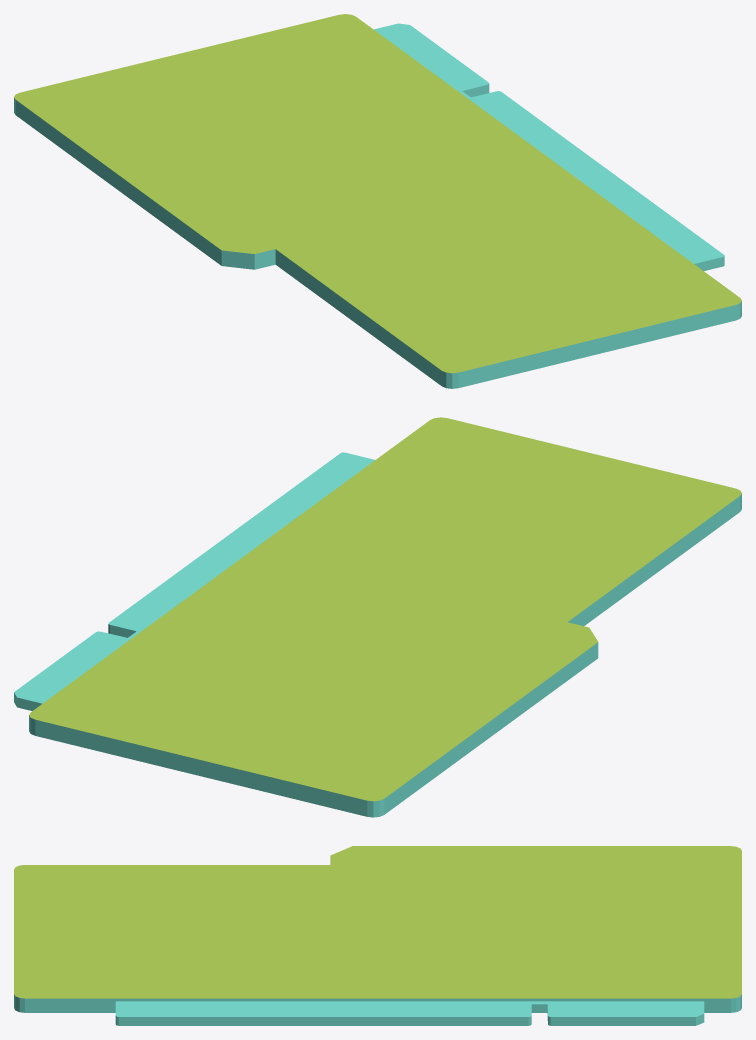
Rendered from PCI_Board_E.fbx.
The picture shows the model from 3 angles, top to bottom: view 1: azimuth 30°, elevation 25°; view 2: azimuth 150°, elevation 25°; view 3: azimuth 270°, elevation 25°; orthographic projection. The views are drawn at different scales.
Visible parts, largest first — view 1: PCI_Board_E; view 2: PCI_Board_E; view 3: PCI_Board_E.
Part boxes in pixels (x1,y1,x2,y2): PCI_Board_E: [14, 14, 741, 388]; PCI_Board_E: [14, 417, 741, 817]; PCI_Board_E: [14, 846, 741, 1025].
Bounding box in the file's own units: 25.16 × 1 × 46.02.
